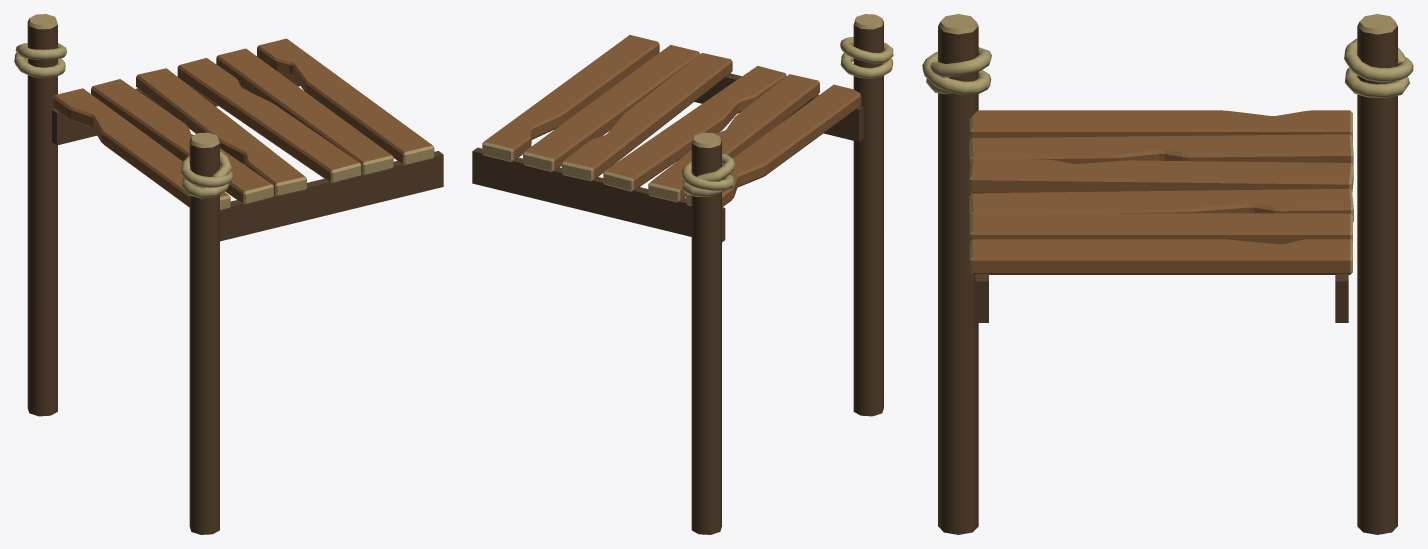
Rendered from environment_dock.glb.
3 renders of one model, left to right at view 1: azimuth 30°, elevation 25°; view 2: azimuth 150°, elevation 25°; view 3: azimuth 270°, elevation 25°, orthographic. The views are drawn at different scales.
Visible parts, largest first — view 1: Environment_Dock; view 2: Environment_Dock; view 3: Environment_Dock.
Boxes of the visible parts, <box> form: Environment_Dock: <box>14,14,443,534</box>; Environment_Dock: <box>472,14,893,534</box>; Environment_Dock: <box>922,14,1413,534</box>.
Bounding box in the file's own units: 2.18 × 3.01 × 2.66.
Materials: 1 (1 with a texture image).
